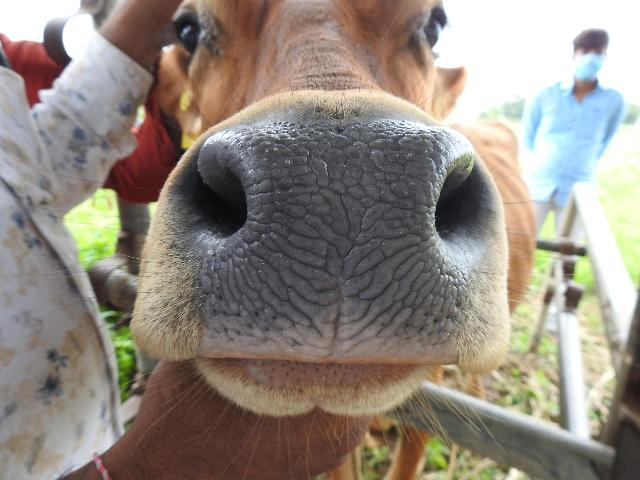Muzzle: (240, 133, 438, 359)
